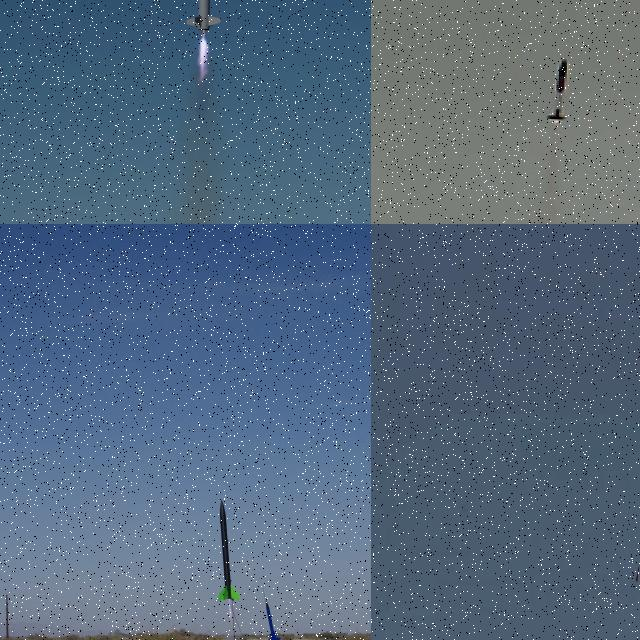Rocket: (216, 499, 242, 601), (546, 57, 570, 121), (265, 600, 293, 640), (185, 0, 221, 31), (635, 566, 640, 582)
